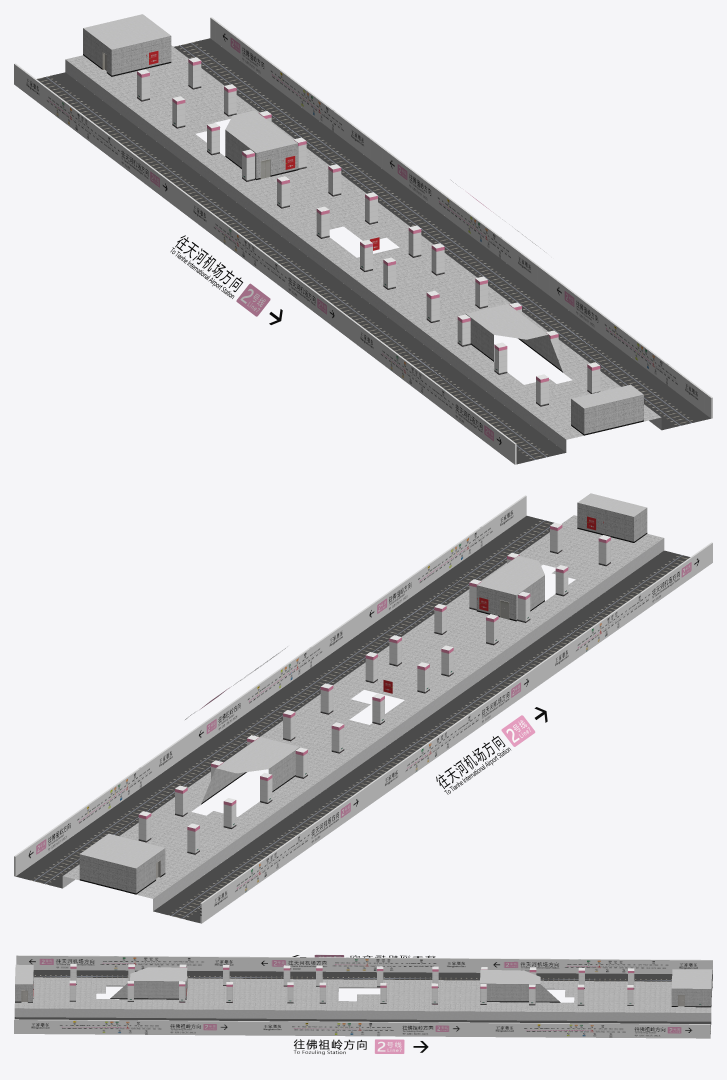
3 views of the same model, one above another, from view 1: azimuth 30°, elevation 25°; view 2: azimuth 150°, elevation 25°; view 3: azimuth 270°, elevation 25° (orthographic). The views are drawn at different scales.
Visible parts, largest first — view 1: road-b2-2, 轨道02, 轨道01, b2_房间, 2号线天河机场方向, 2号线佛祖岭方向, b2-水泥, 2号线天河机场方向005; view 2: road-b2-2, 轨道02, 轨道01, b2_房间, 2号线佛祖岭方向, 2号线天河机场方向, b2-水泥, 2号线天河机场方向005; view 3: road-b2-2, 2号线佛祖岭方向, 2号线天河机场方向, b2-水泥, b2_房间, 轨道01, 轨道02, 2号线佛祖岭方向004, 2号线天河机场方向005.
Boxes of the visible parts, <box> form: road-b2-2: <box>65,45,661,439</box>; 轨道02: <box>173,38,710,430</box>; 轨道01: <box>36,72,565,464</box>; b2_房间: <box>83,14,643,435</box>; 2号线天河机场方向: <box>14,63,516,464</box>; 2号线佛祖岭方向: <box>210,17,712,418</box>; b2-水泥: <box>65,59,661,452</box>; 2号线天河机场方向005: <box>170,235,282,324</box>; road-b2-2: <box>63,515,663,898</box>; 轨道02: <box>16,516,553,888</box>; 轨道01: <box>153,550,690,922</box>; b2_房间: <box>79,493,647,894</box>; 2号线佛祖岭方向: <box>14,495,526,876</box>; 2号线天河机场方向: <box>200,542,712,923</box>; b2-水泥: <box>62,538,664,910</box>; 2号线天河机场方向005: <box>436,707,547,794</box>; road-b2-2: <box>14,977,711,1012</box>; 2号线佛祖岭方向: <box>14,1019,710,1038</box>; 2号线天河机场方向: <box>16,955,712,974</box>; b2-水泥: <box>14,985,712,1021</box>; b2_房间: <box>15,964,712,1007</box>; 轨道01: <box>33,970,712,987</box>; 轨道02: <box>14,1017,711,1033</box>; 2号线佛祖岭方向004: <box>293,1039,428,1054</box>; 2号线天河机场方向005: <box>292,954,435,957</box>.
Size of the model in its own units: 37.5 by 6.54 by 109.
18 materials, 18 textured.
